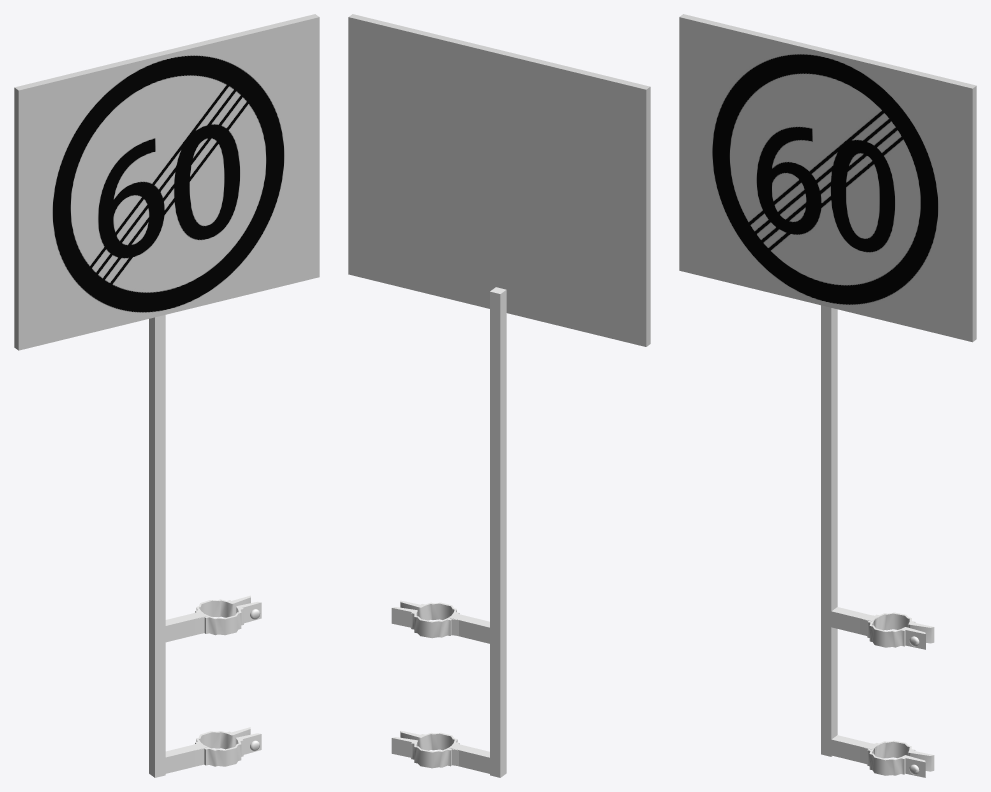
Rendered from 解除限速-S.glb.
3 views of the same model, side by side, from view 1: azimuth 30°, elevation 25°; view 2: azimuth 150°, elevation 25°; view 3: azimuth 330°, elevation 25° (orthographic). The views are drawn at different scales.
Visible parts, largest first — view 1: 立方体.1-材质.4, 立方体, 立方体.1-材质.2, pCube31, pCube20, 立方体.1, 立方体.2; view 2: 立方体.1-材质.2, 立方体, pCube20, pCube31, 立方体.2, 立方体.1; view 3: 立方体.1-材质.4, 立方体, 立方体.1-材质.2, pCube31, pCube20, 立方体.2, 立方体.1.
Boxes of the visible parts, box(x1,y1,x2,y2) form: 立方体.1-材质.4: box(18, 17, 319, 350); 立方体: box(149, 315, 165, 777); 立方体.1-材质.2: box(14, 14, 318, 350); pCube31: box(194, 595, 261, 635); pCube20: box(194, 727, 261, 766); 立方体.1: box(165, 611, 206, 642); 立方体.2: box(165, 743, 206, 773); 立方体.1-材质.2: box(348, 14, 650, 346); 立方体: box(490, 287, 506, 777); pCube20: box(391, 730, 459, 768); pCube31: box(391, 600, 459, 638); 立方体.2: box(449, 743, 491, 774); 立方体.1: box(449, 613, 491, 644); 立方体.1-材质.4: box(679, 17, 972, 342); 立方体: box(821, 305, 837, 756); 立方体.1-材质.2: box(679, 14, 976, 341); pCube31: box(860, 612, 934, 649); pCube20: box(860, 740, 934, 777); 立方体.2: box(831, 735, 877, 762); 立方体.1: box(831, 607, 877, 634).
Size of the model in its own units: 7.01 by 16.13 by 0.9508.
Materials: 4 (1 with a texture image).
